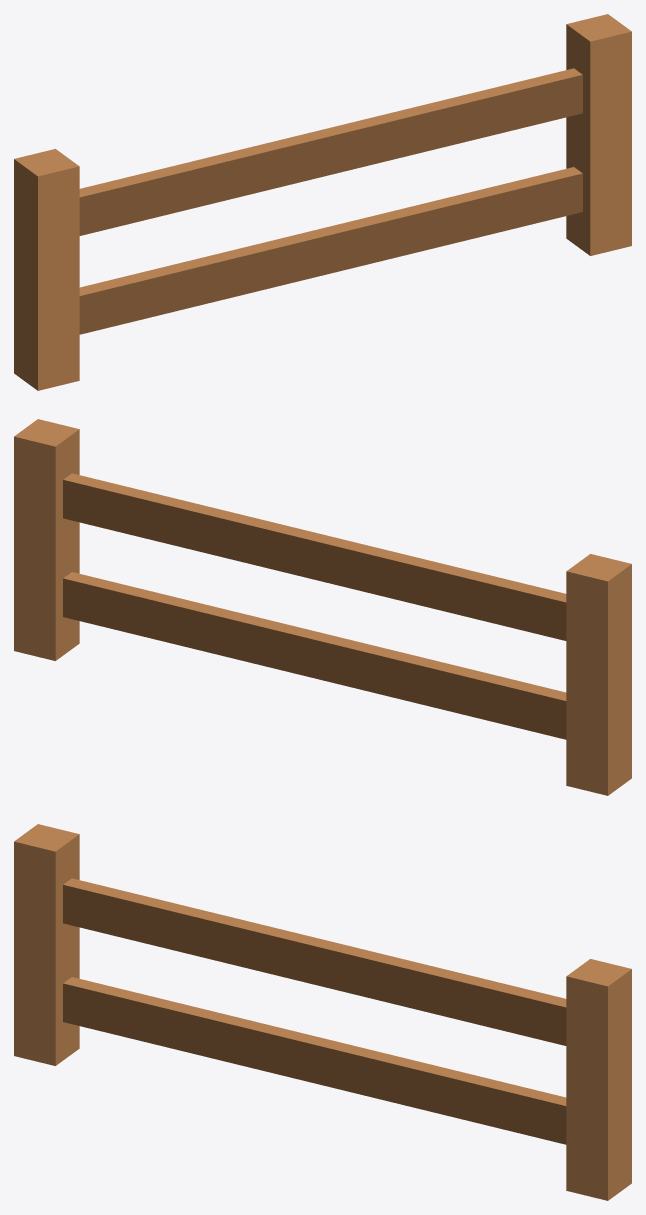
Rendered from fence.glb.
3 renders of one model, top to bottom at view 1: azimuth 30°, elevation 25°; view 2: azimuth 150°, elevation 25°; view 3: azimuth 330°, elevation 25°, orthographic.
Parts seen in each view (by area): view 1: fence_simple; view 2: fence_simple; view 3: fence_simple.
Part boxes in pixels (x1=…): fence_simple: x1=14, y1=14, x2=631, y2=390; fence_simple: x1=14, y1=419, x2=631, y2=795; fence_simple: x1=14, y1=824, x2=631, y2=1200.
Size of the model in its own units: 1 by 0.345 by 0.0699.
